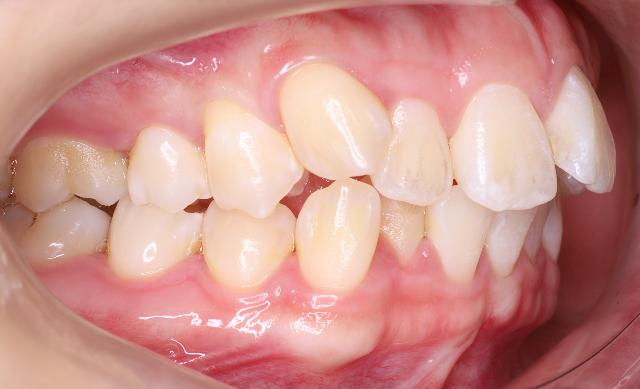canine class II 3/4: (198, 58, 400, 300)
molar class II full class: (2, 138, 132, 276)
